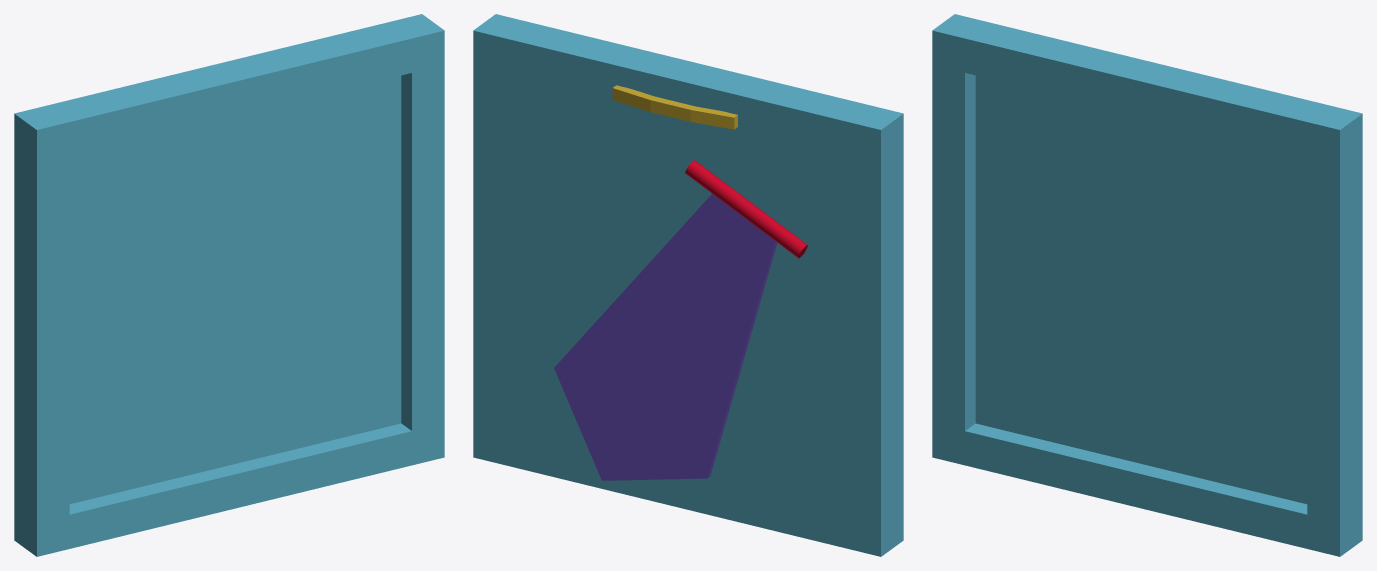
The model's file is SquareFrame.fbx.
3 views of the same model, side by side, from view 1: azimuth 30°, elevation 25°; view 2: azimuth 150°, elevation 25°; view 3: azimuth 330°, elevation 25° (orthographic).
Parts seen in each view (by area): view 1: Cube; view 2: Cube, Cube.002, Cylinder, Cube.006; view 3: Cube.
Part boxes in pixels (bbox=[...]): Cube: bbox=[14, 14, 444, 556]; Cube: bbox=[473, 14, 903, 556]; Cube.002: bbox=[554, 193, 777, 480]; Cylinder: bbox=[685, 160, 807, 258]; Cube.006: bbox=[612, 85, 737, 129]; Cube: bbox=[932, 14, 1362, 556].
Bounding box in the file's own units: 57.68 × 57.68 × 7.29.
